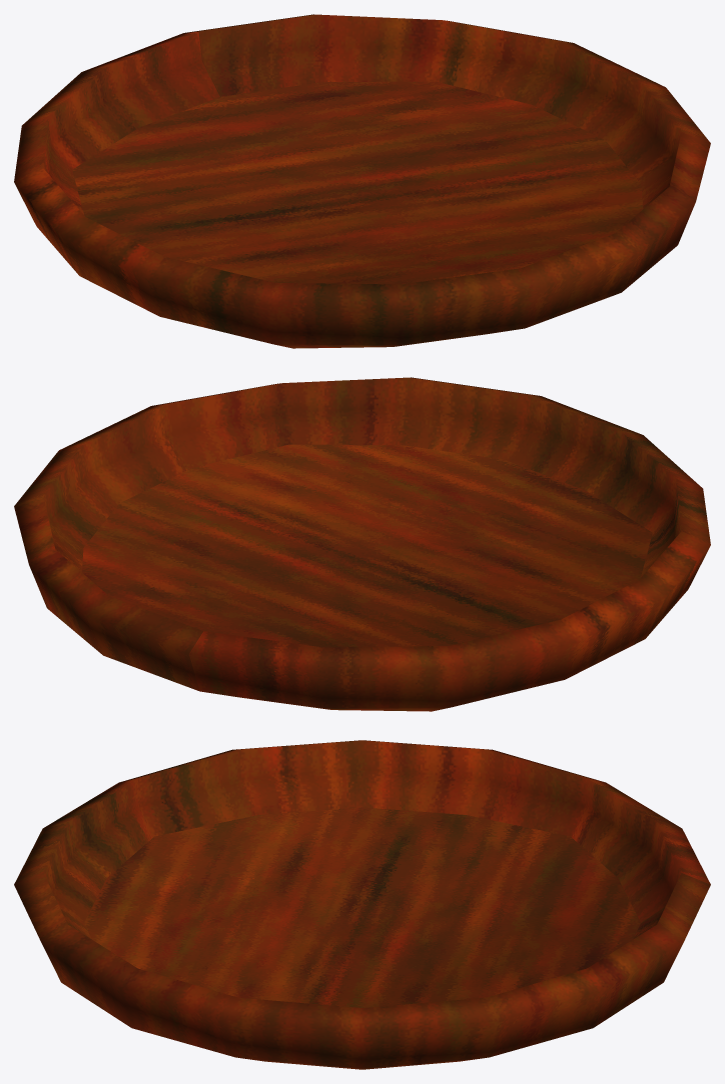
File: Hand_Basket.fbx
The picture shows the model from 3 angles, top to bottom: view 1: azimuth 30°, elevation 25°; view 2: azimuth 150°, elevation 25°; view 3: azimuth 270°, elevation 25°; orthographic projection.
Parts seen in each view (by area): view 1: Hand_Basket; view 2: Hand_Basket; view 3: Hand_Basket.
Boxes of the visible parts, x1,y1,x2,y2 form: Hand_Basket: (14,14,710,348); Hand_Basket: (14,377,710,711); Hand_Basket: (14,740,710,1069).
Bounding box in the file's own units: 0.8414 × 0.1239 × 0.848.
